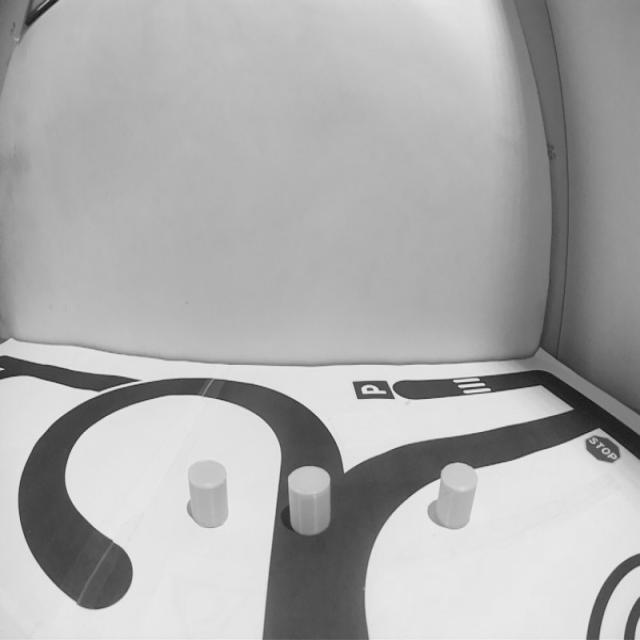cylinder: (285, 465, 332, 537), (186, 456, 229, 530), (435, 462, 478, 530)
